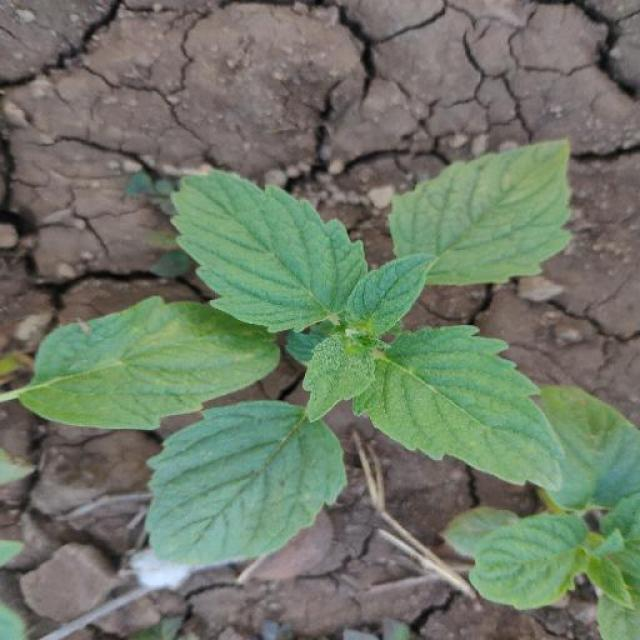crop: (52, 142, 572, 544)
